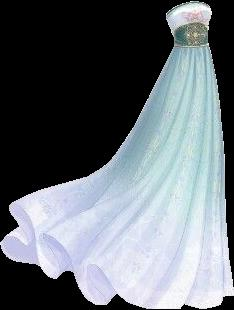Bodice: (166, 1, 211, 46)
Hemline: (1, 200, 233, 309)
Neckline: (165, 0, 211, 16)
Skirt: (0, 45, 233, 308)
Waistline: (174, 44, 209, 48)
